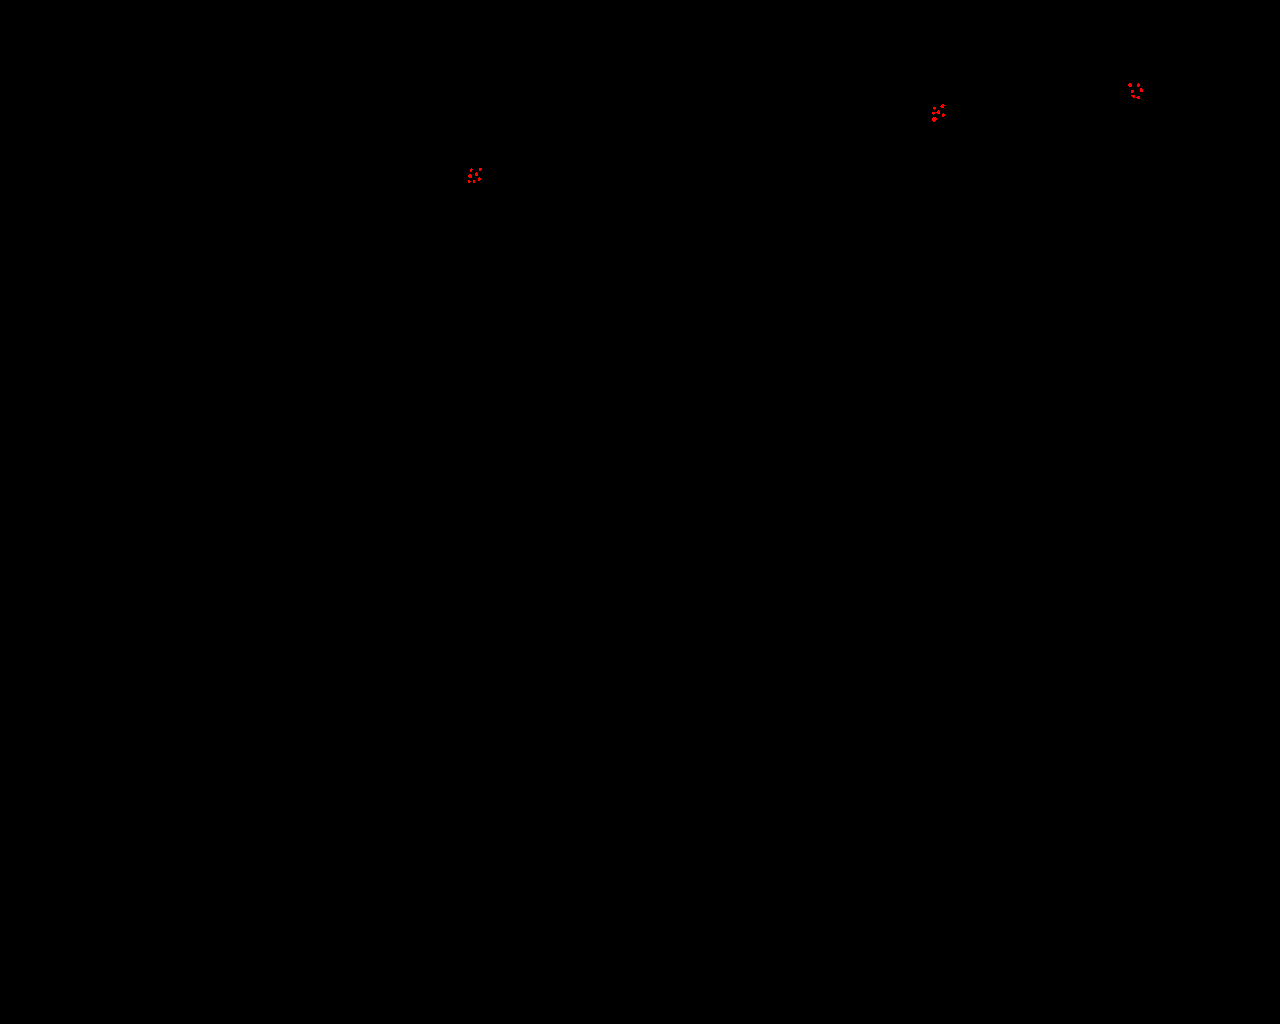Target: (932, 117, 937, 122), (936, 110, 940, 114), (1128, 83, 1132, 87), (1137, 83, 1140, 87), (1140, 88, 1143, 92), (1131, 95, 1135, 98), (1136, 96, 1140, 99), (940, 104, 945, 108), (470, 168, 473, 172), (468, 174, 472, 178), (478, 177, 481, 181), (1131, 90, 1134, 93), (933, 107, 936, 110), (932, 112, 935, 115), (479, 168, 482, 171), (468, 180, 471, 183), (942, 113, 945, 117), (475, 172, 478, 176), (473, 180, 475, 183)
